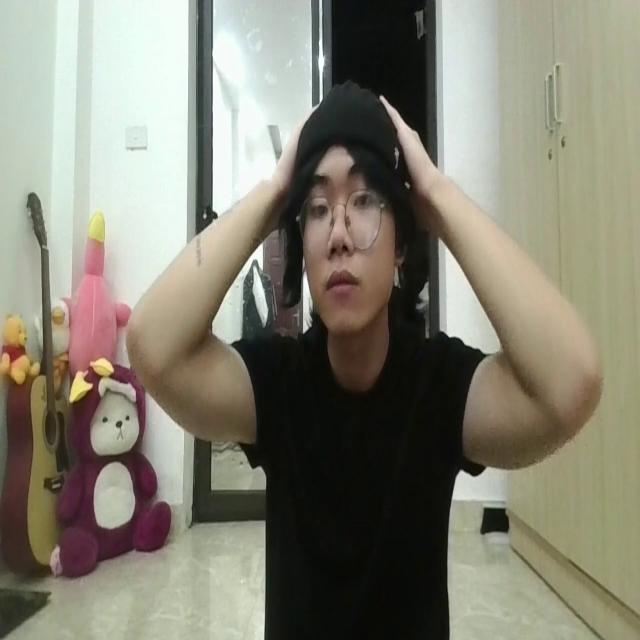student: (127, 74, 602, 640)
